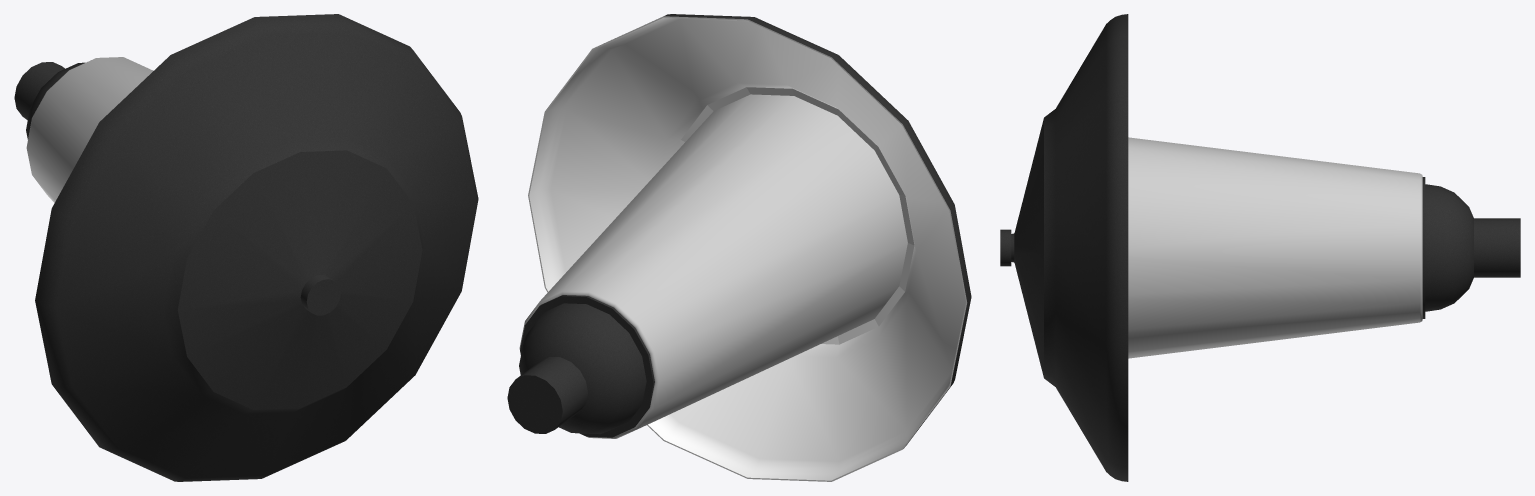
3 renders of one model, left to right at view 1: azimuth 30°, elevation 25°; view 2: azimuth 150°, elevation 25°; view 3: azimuth 270°, elevation 25°, orthographic. The views are drawn at different scales.
Visible parts, largest first — view 1: Vulkan_5460_BezierCurve.009, Vulkan_5460_Glas_BezierCurve.007; view 2: Vulkan_5460_BezierCurve.009, Vulkan_5460_Glas_BezierCurve.007; view 3: Vulkan_5460_Glas_BezierCurve.007, Vulkan_5460_BezierCurve.009.
Boxes of the visible parts, box(x1,y1,x2,y2) form: Vulkan_5460_BezierCurve.009: box(14, 14, 478, 481); Vulkan_5460_Glas_BezierCurve.007: box(26, 57, 153, 202); Vulkan_5460_BezierCurve.009: box(507, 14, 971, 481); Vulkan_5460_Glas_BezierCurve.007: box(519, 94, 907, 438); Vulkan_5460_Glas_BezierCurve.007: box(1128, 137, 1422, 358); Vulkan_5460_BezierCurve.009: box(1000, 14, 1520, 481).
Bounding box in the file's own units: 0.7805 × 0.7805 × 0.867.
3 materials, 2 textured.
